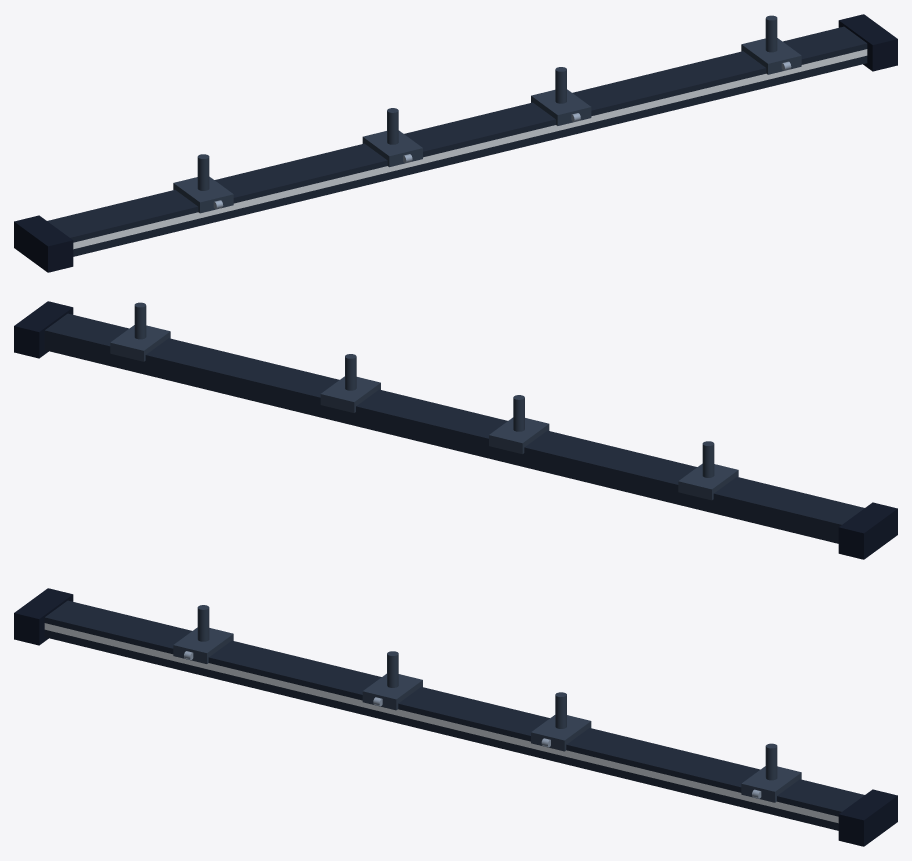
Rendered from optical_rail_system.glb.
The picture shows the model from 3 angles, top to bottom: view 1: azimuth 30°, elevation 25°; view 2: azimuth 150°, elevation 25°; view 3: azimuth 330°, elevation 25°; orthographic projection.
Visible parts, largest first — view 1: Thorlabs_Optical_Rail_System, Optical_Carrier_4, Optical_Carrier_1, Optical_Carrier_2, Optical_Carrier_3; view 2: Thorlabs_Optical_Rail_System, Optical_Carrier_4, Optical_Carrier_1, Optical_Carrier_2, Optical_Carrier_3; view 3: Thorlabs_Optical_Rail_System, Optical_Carrier_4, Optical_Carrier_1, Optical_Carrier_2, Optical_Carrier_3.
Part boxes in pixels (left/top/right/bottom): Thorlabs_Optical_Rail_System: left=14, top=14, right=897, bottom=272; Optical_Carrier_4: left=741, top=15, right=801, bottom=74; Optical_Carrier_1: left=173, top=154, right=233, bottom=213; Optical_Carrier_2: left=362, top=108, right=422, bottom=167; Optical_Carrier_3: left=531, top=67, right=591, bottom=125; Thorlabs_Optical_Rail_System: left=14, top=301, right=897, bottom=559; Optical_Carrier_4: left=110, top=302, right=170, bottom=361; Optical_Carrier_1: left=678, top=441, right=738, bottom=500; Optical_Carrier_2: left=489, top=395, right=549, bottom=454; Optical_Carrier_3: left=320, top=354, right=380, bottom=412; Thorlabs_Optical_Rail_System: left=14, top=588, right=897, bottom=846; Optical_Carrier_4: left=741, top=743, right=801, bottom=802; Optical_Carrier_1: left=173, top=605, right=233, bottom=663; Optical_Carrier_2: left=362, top=651, right=422, bottom=710; Optical_Carrier_3: left=531, top=692, right=591, bottom=751.
Bounding box in the file's own units: 2.02 × 0.14 × 0.14.
